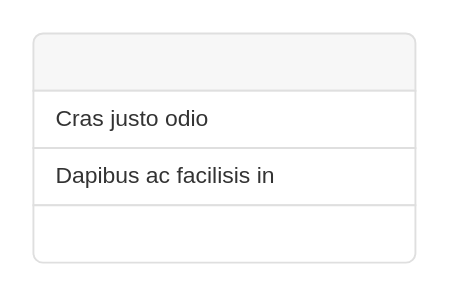
Image size: 449x296. Some labels were removed from this diagram. The box of each missing label's shape, as (x1, y1, x2, y2) in pixels:
TruckPlan: (32, 32, 415, 91)
Vestibulum at eros: (32, 203, 415, 263)
